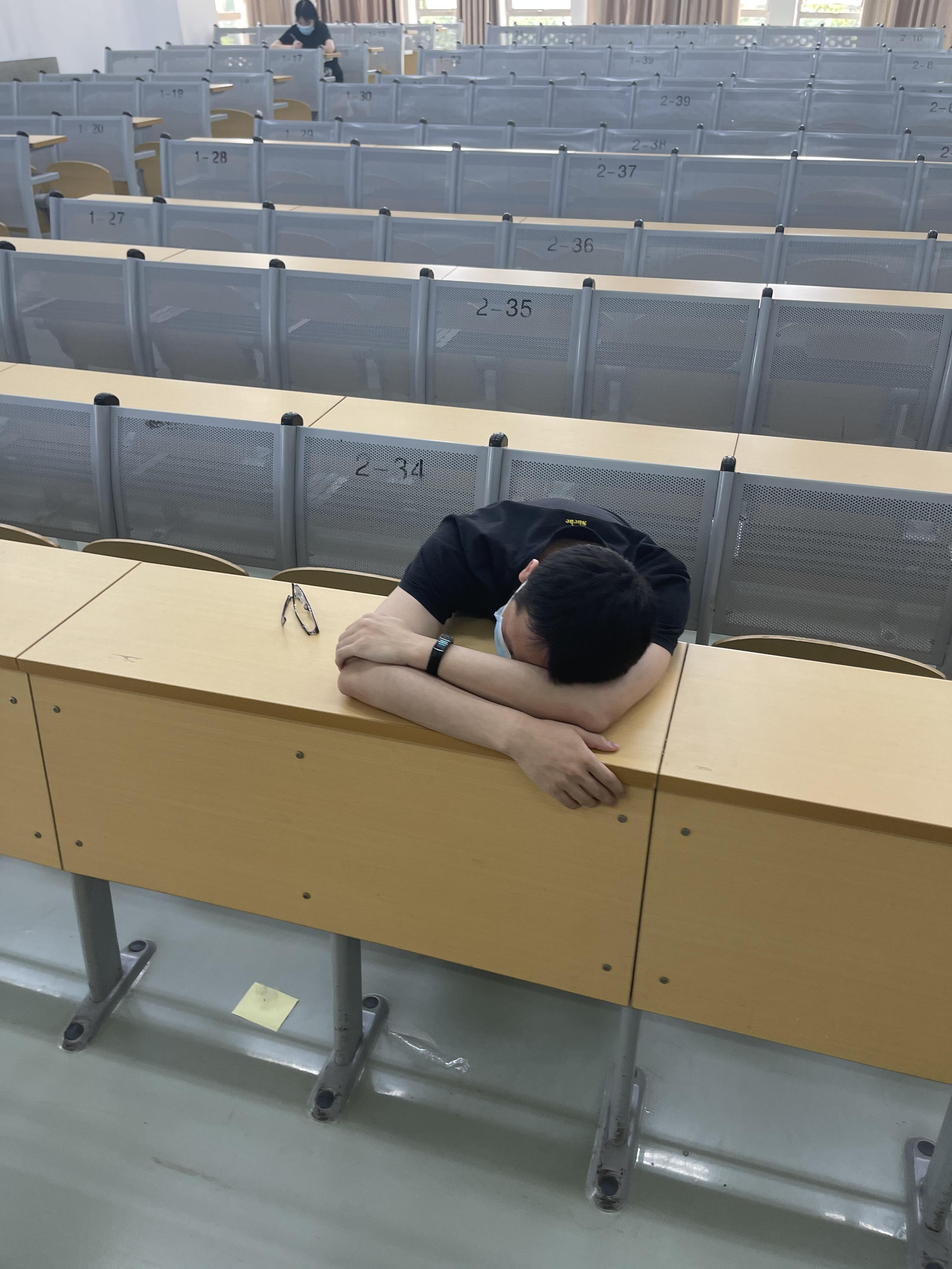sleep: (339, 506, 692, 781)
